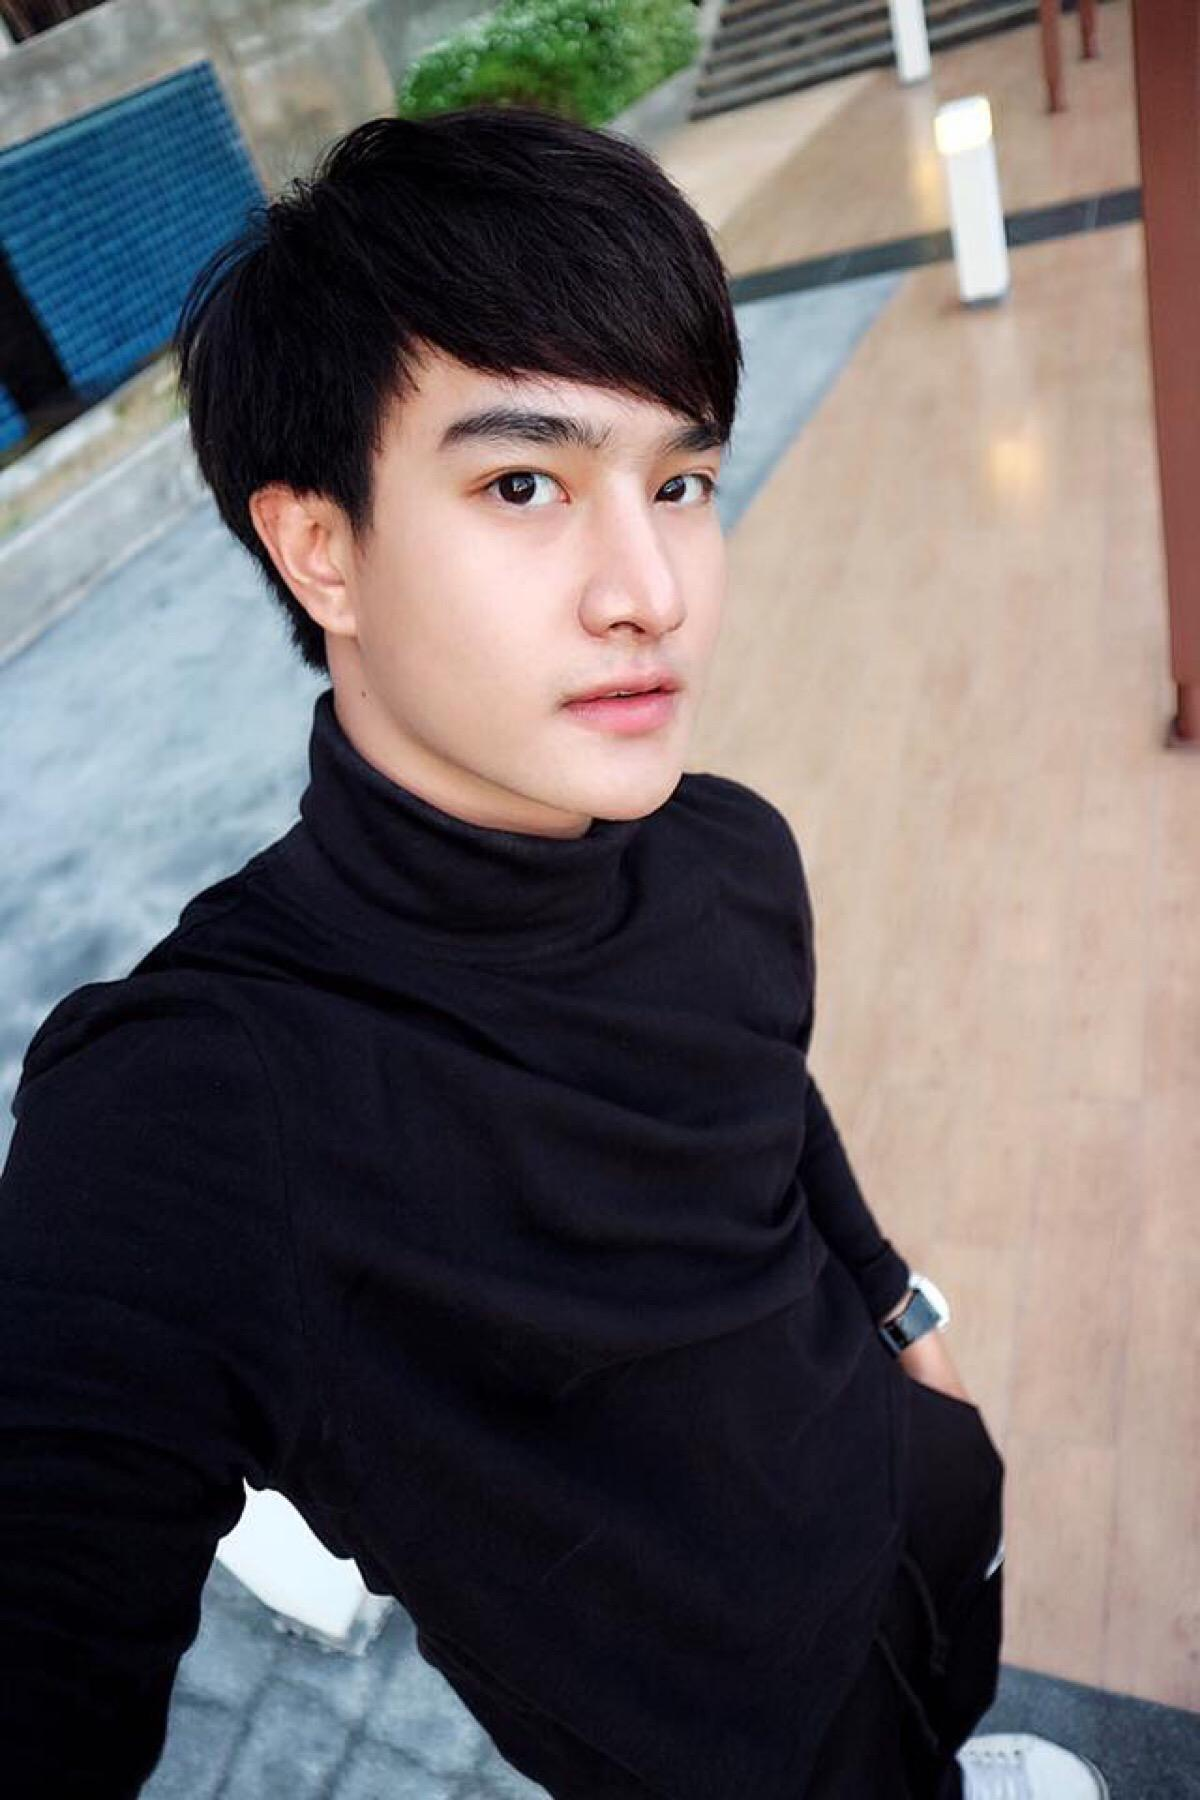person: (77, 121, 1052, 1800)
